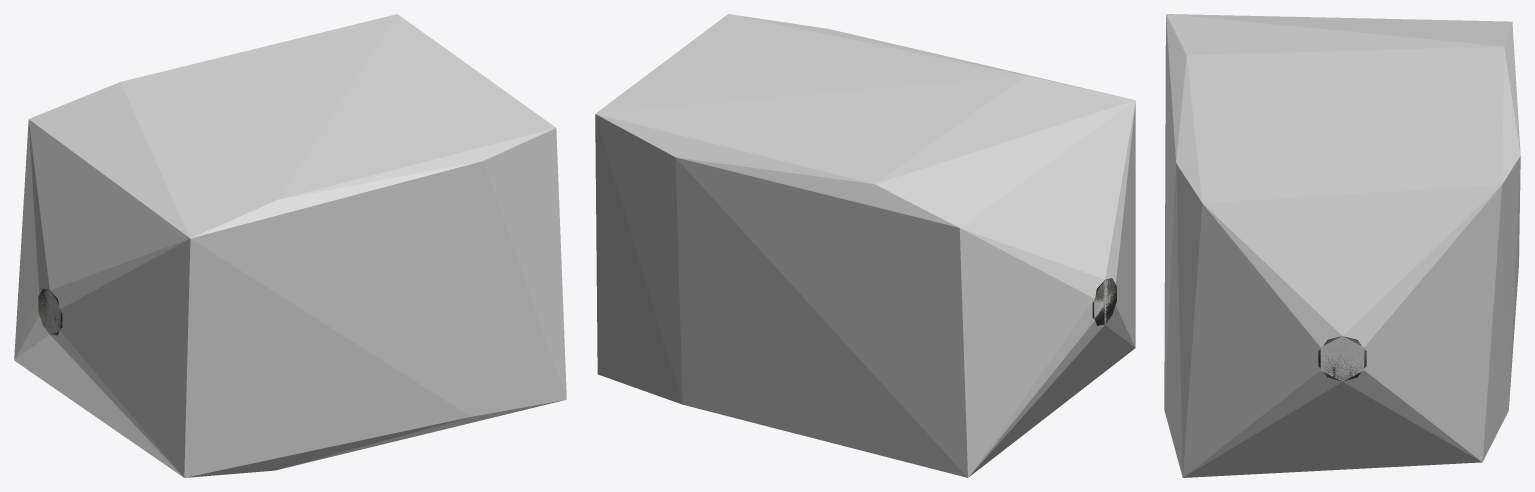
Rendered from stakes.webp.glb.
3 renders of one model, left to right at view 1: azimuth 30°, elevation 25°; view 2: azimuth 150°, elevation 25°; view 3: azimuth 270°, elevation 25°, orthographic. The views are drawn at different scales.
Parts seen in each view (by area): view 1: COL, LOD0_body; view 2: COL, LOD0_body; view 3: COL, LOD0_body.
Boxes of the visible parts, left/top/right/bottom form: COL: left=14, top=14, right=566, bottom=477; LOD0_body: left=38, top=289, right=62, bottom=335; COL: left=595, top=14, right=1135, bottom=477; LOD0_body: left=1092, top=278, right=1116, bottom=325; COL: left=1164, top=14, right=1520, bottom=477; LOD0_body: left=1318, top=336, right=1366, bottom=381.
Bounding box in the file's own units: 2.3 × 1.25 × 1.41.
Materials: 1 (1 with a texture image).
